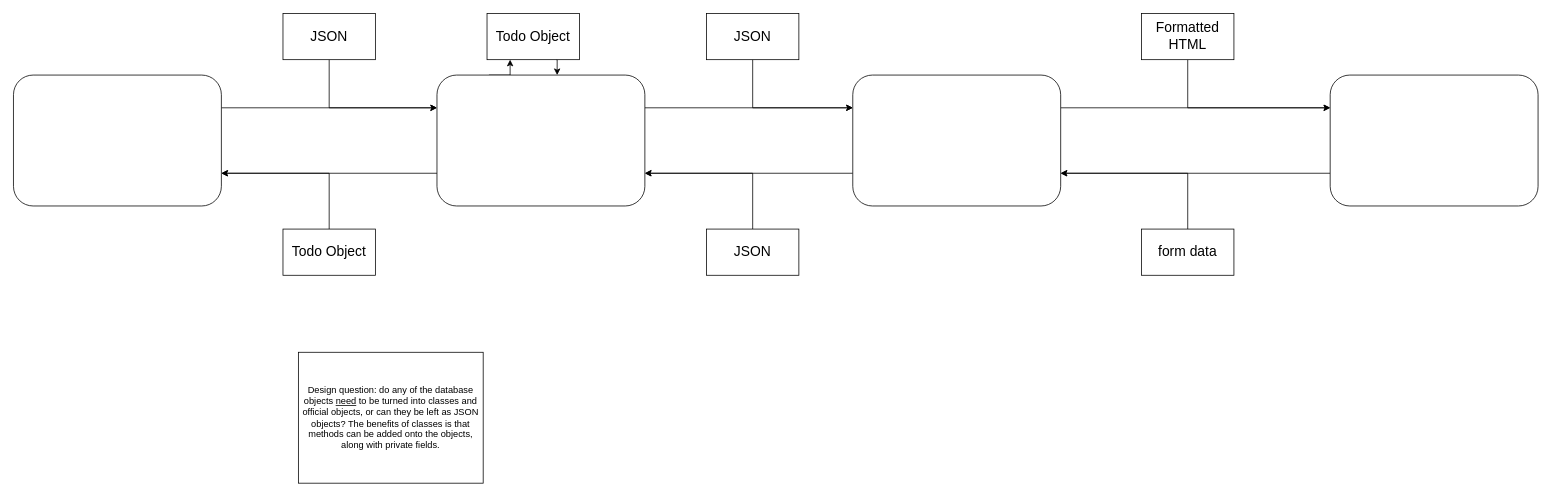
Image size: 1552x497. Some labels were removed from this diagram. Each missing label, with the centre of its shape:
"client js (no access to Todo models. ex: script tags and script.js)" belongs at point 956,140.
"database" belongs at point 117,140.
"display (I want an in memory id:Todo map)" belongs at point 1433,140.
"server js (has access to the Todo models)" belongs at point 540,140.
